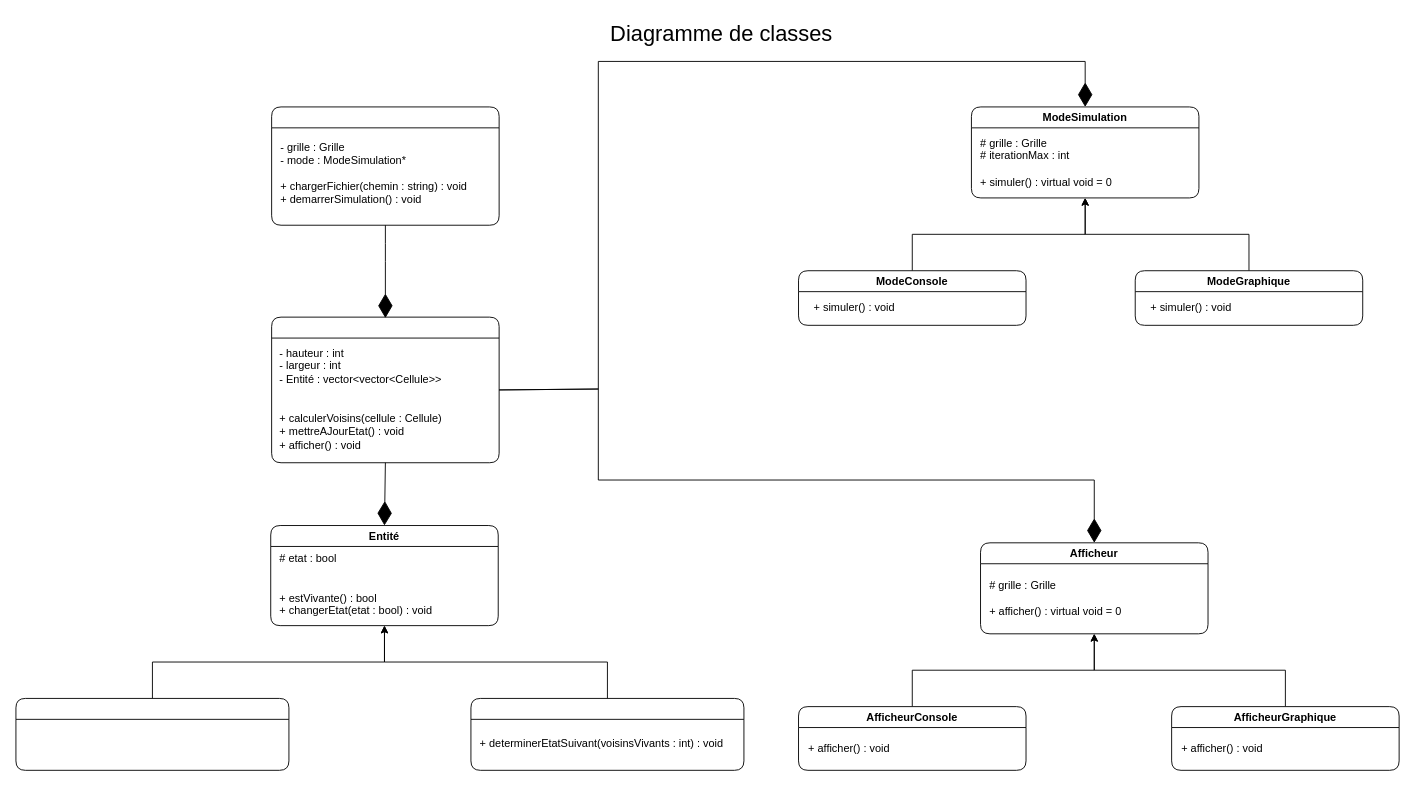
This 1415x786 diagram has some shape labels left out. The shapes that lost their labels are listed below. From the top down, each one's box as (x1, y1, x2, y2) in pixels, then its label:
(271, 106, 499, 225): JeuDeLaVie
(271, 316, 499, 463): Grille
(15, 698, 289, 770): Obstacle
(470, 698, 744, 770): Cellules
